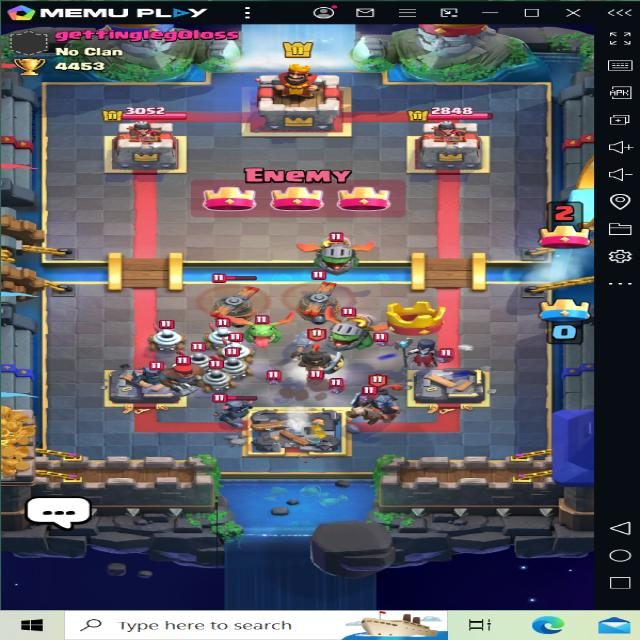baby-dragon: (230, 311, 298, 345)
bats: (327, 369, 360, 394), (435, 345, 464, 366), (296, 364, 328, 382), (253, 370, 286, 385), (370, 333, 393, 349)
dark-prince: (349, 376, 415, 430), (285, 338, 346, 381)
flying-machine: (185, 275, 274, 330), (287, 279, 349, 328)
hunter: (160, 356, 211, 388)
inferno-dragon: (301, 226, 371, 278), (328, 302, 381, 354)
mini-pekka: (206, 394, 258, 424), (130, 360, 182, 381)
night-witch: (403, 332, 454, 376)
zappie: (141, 319, 193, 352), (208, 345, 254, 374), (214, 332, 255, 360), (198, 359, 236, 389), (179, 344, 220, 370), (204, 319, 243, 345)
